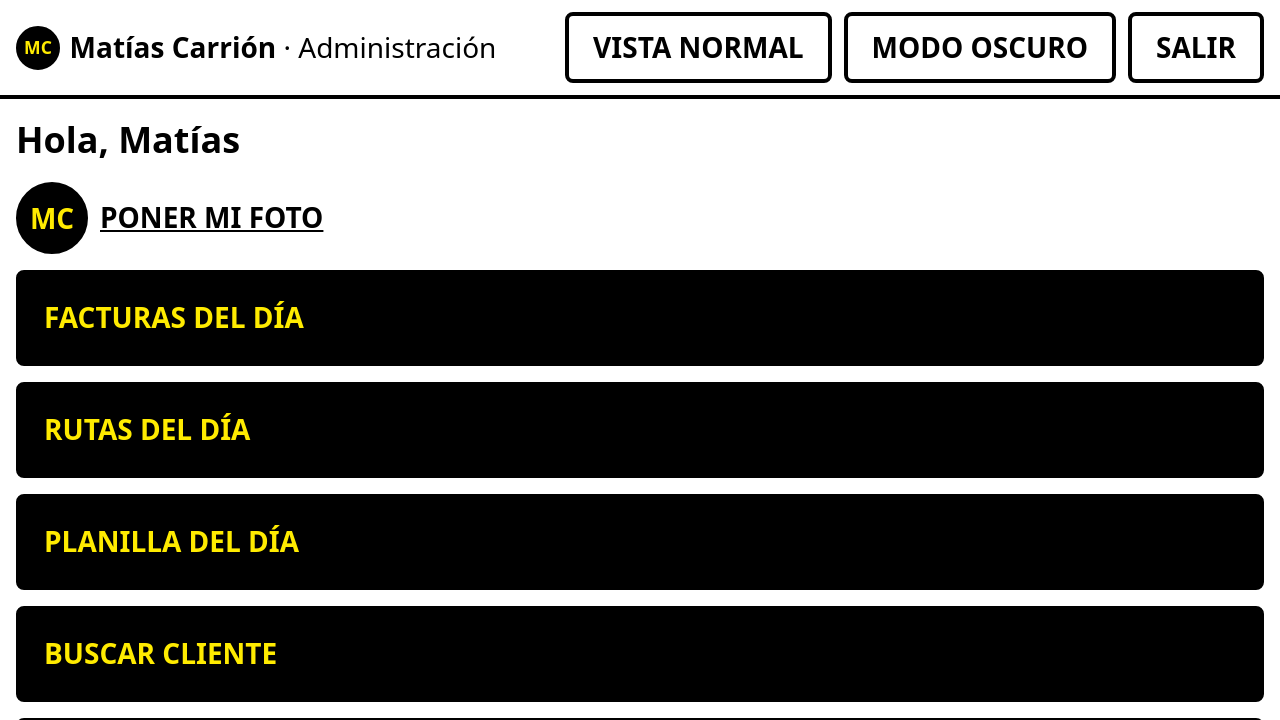
Test case: entrada y protección por rol › SALIR cierra la sesión y vuelve a /entrar
Click the button "SALIR".
click(1196, 48)  # box [1128,12,1264,83]
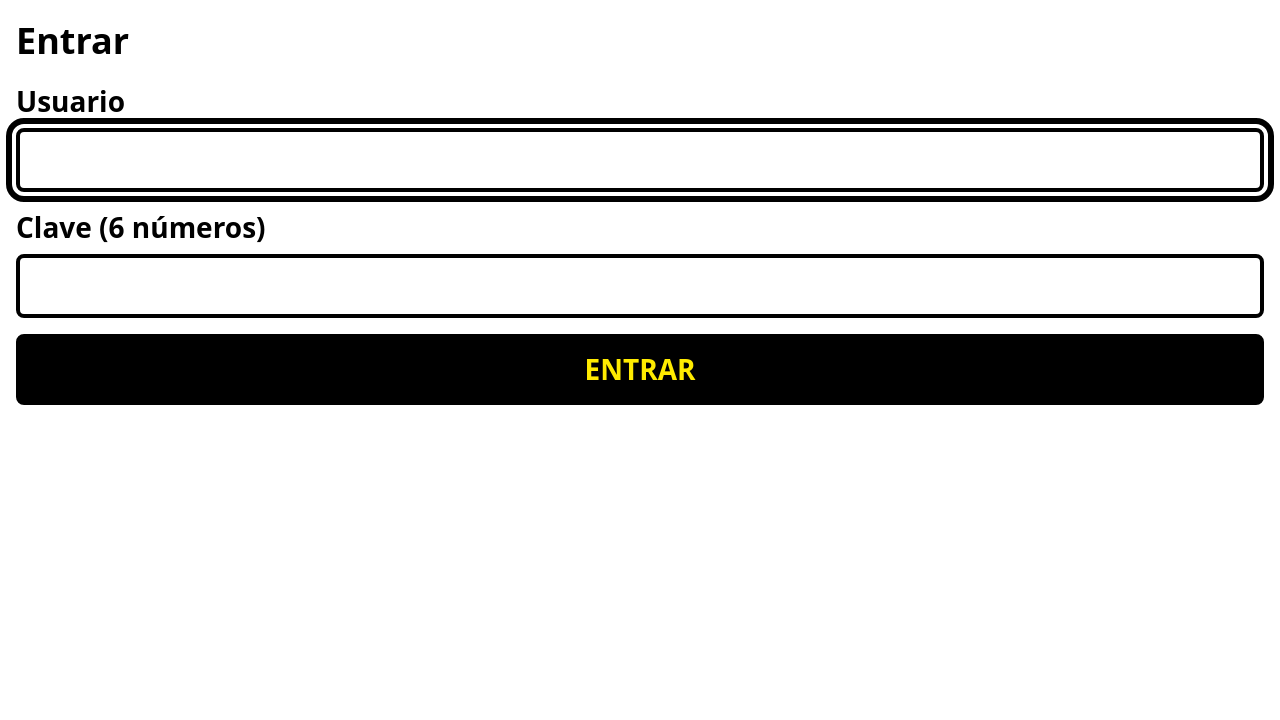
Now the heading "Entrar" is shown, box [16,16,129,65]
